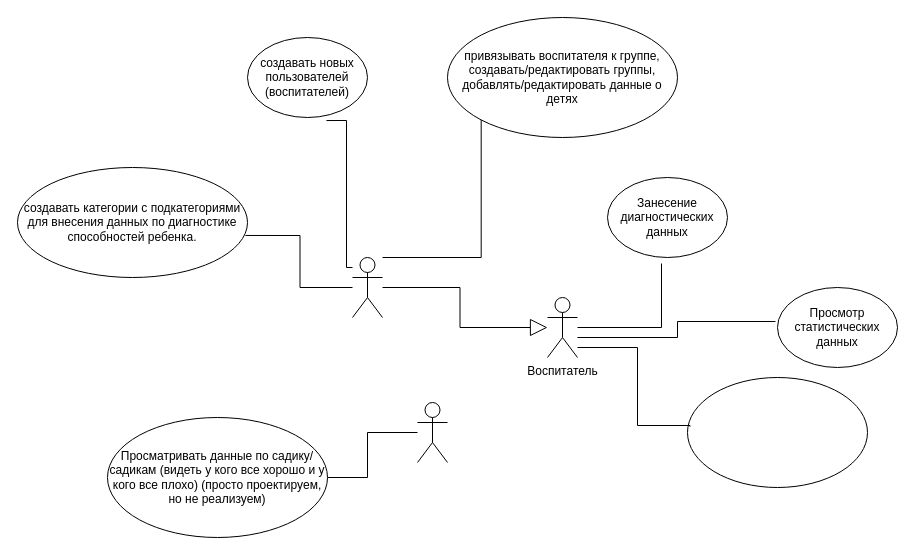
This 915x555 diagram has some shape labels left out. Here are the shapes that lost their labels. From the top down, the box of each, then its label:
(352, 256, 382, 318): Заведующий
(416, 402, 448, 462): Аналитик
(686, 376, 868, 488): Просмотр рекомендаций по всем детям (общая тенденция) и по конкретному ребенку
